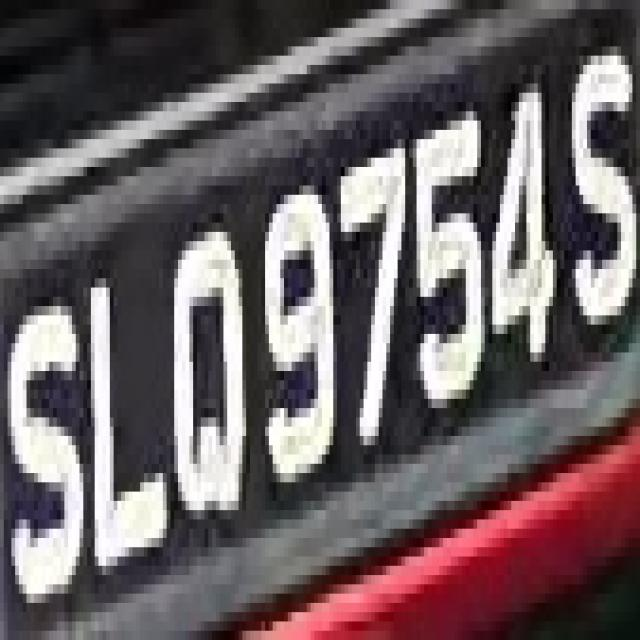4: (473, 56, 557, 390)
5: (409, 75, 485, 418)
7: (337, 130, 417, 464)
9: (253, 148, 344, 520)
L: (80, 223, 178, 584)
Q: (155, 204, 254, 547)
S: (561, 19, 636, 352), (15, 269, 80, 621)
